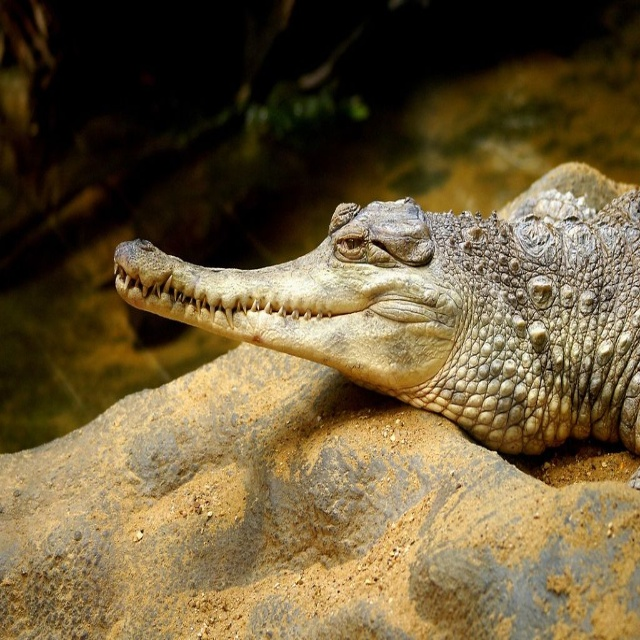Crocodile: (116, 186, 640, 452)
